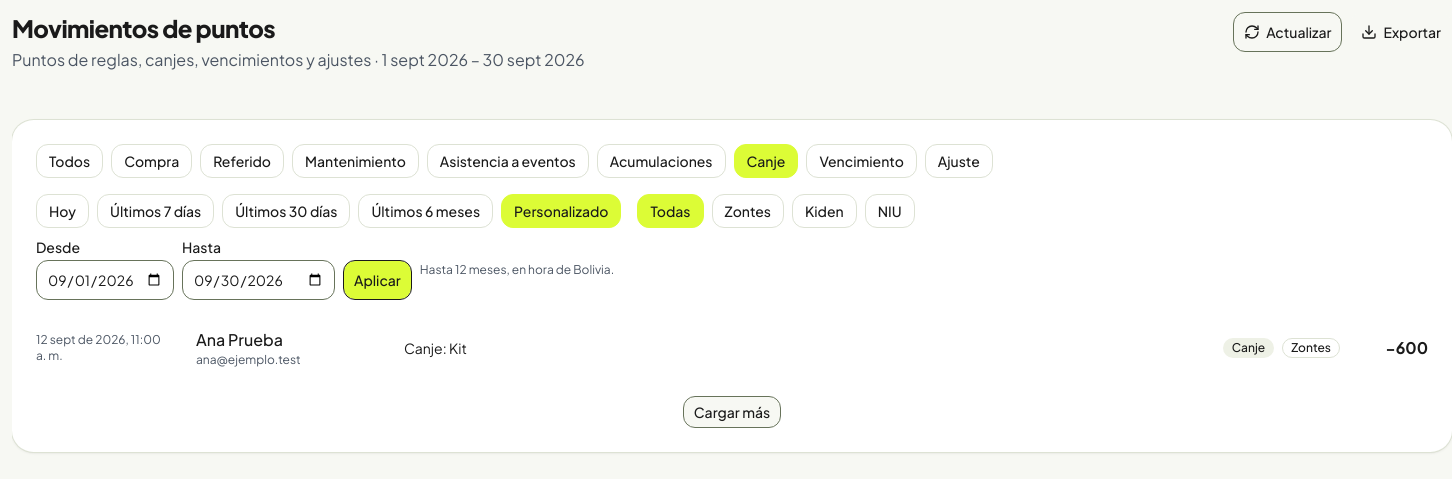
Test: F5-FE-01 · Movimientos (UI-20, A07) › aplica los filtros recibidos, cambia de tipo, pagina y lleva los filtros a exportar
Expected: the list named "Movimientos" shows "Canje: Kit", [404,339,467,357]
Expected: the list named "Movimientos" shows "−600", [1385,337,1428,358]
Click the button "Cargar más" at (732, 412), box [683,396,781,428]
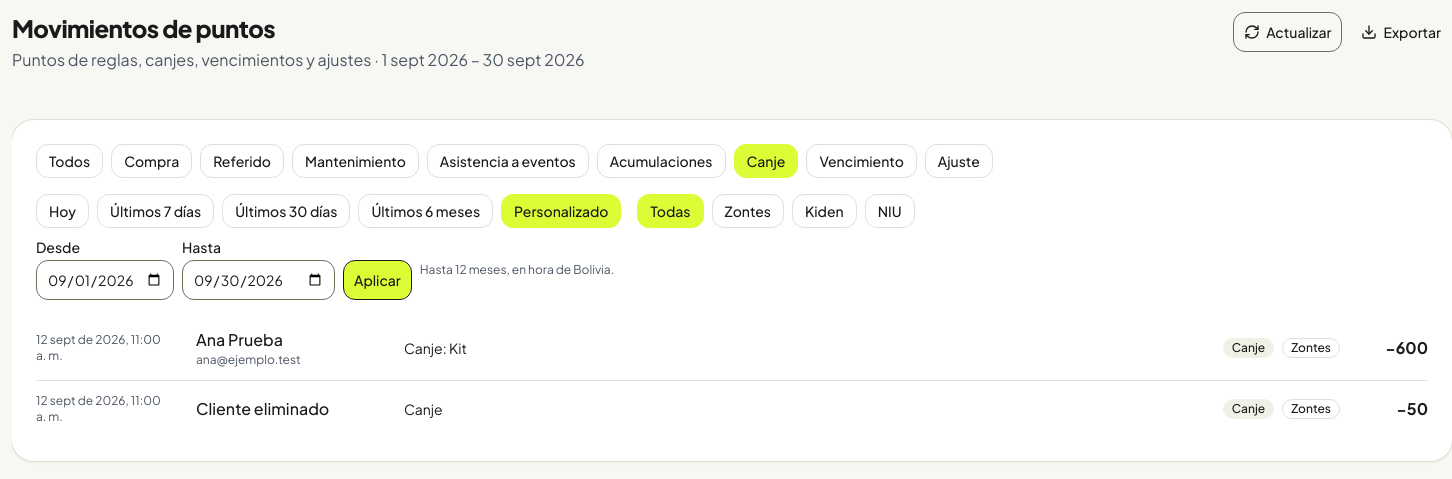
Result: the text "Cliente eliminado" is shown at [196,398,329,419]
Click the button "Referido" at (242, 161), box [200,144,284,178]
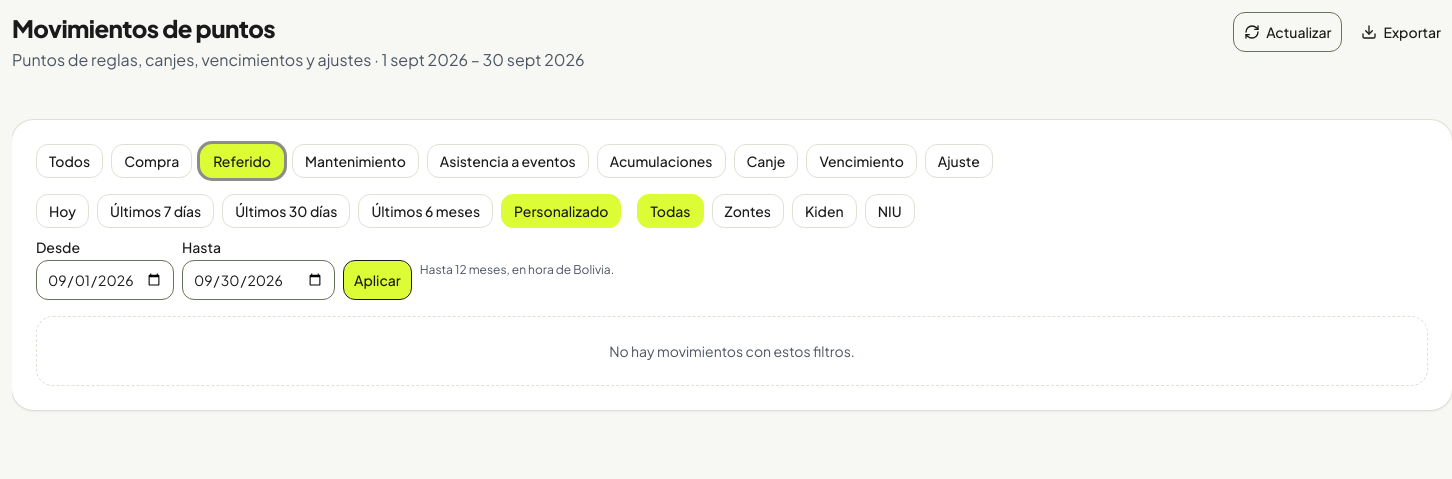
Result: the text "No hay movimientos con estos filtros." is shown at [36,316,1428,386]
